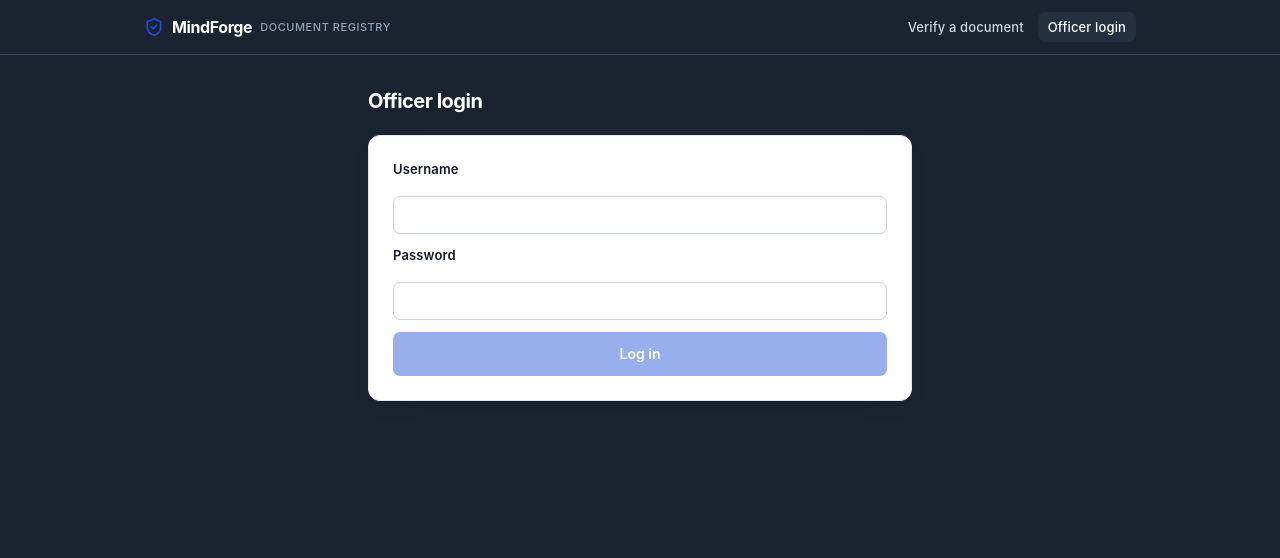
Test: routing and access › brings the officer back to the page they asked for after logging in
This screenshot has width=1280, height=558.
Type "officer" into the field labelled "Username" at (640, 215), box [393,196,887,234]
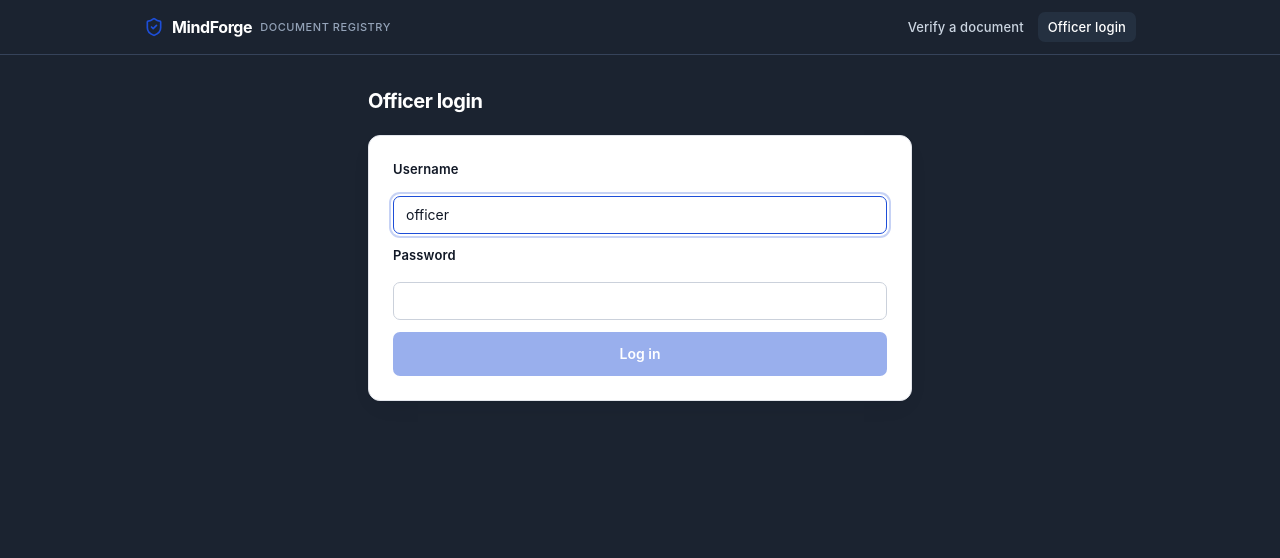
Type "correct horse" into the password field labelled "Password" at (640, 301), box [393,282,887,320]
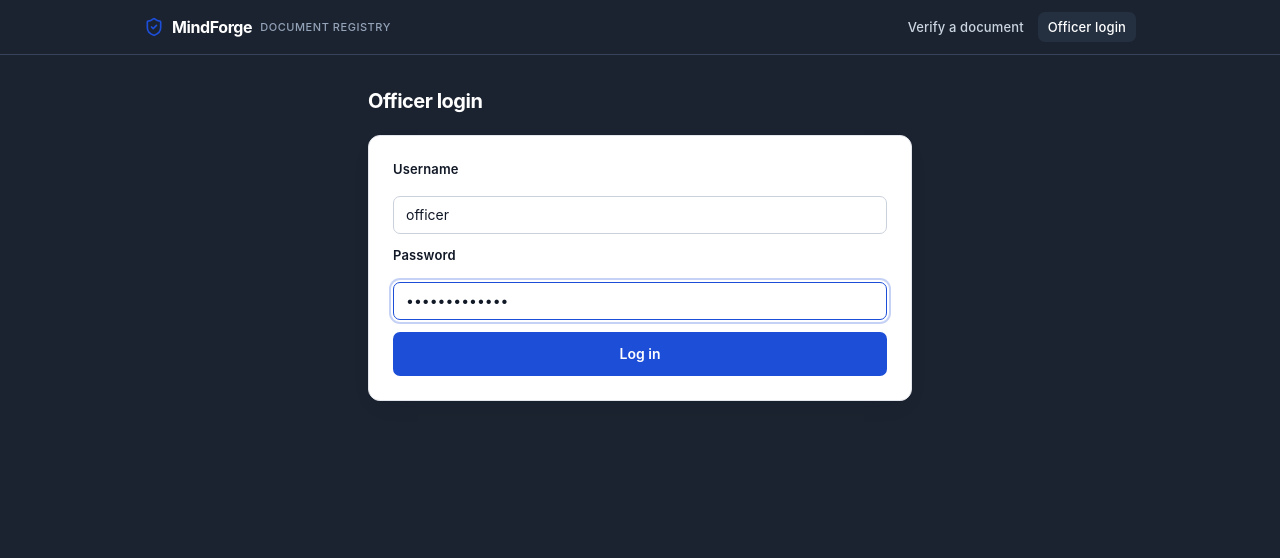
Click the button "Log in" at (640, 354), box [393,332,887,376]
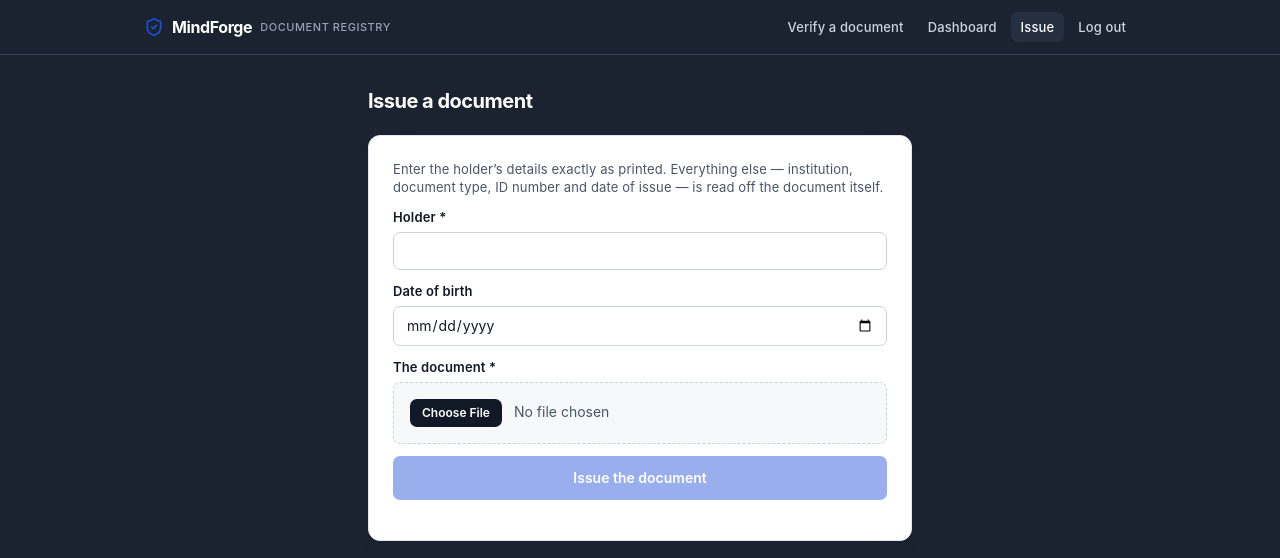
expect the heading "Issue a document" is shown: met, box [368,89,532,113]
